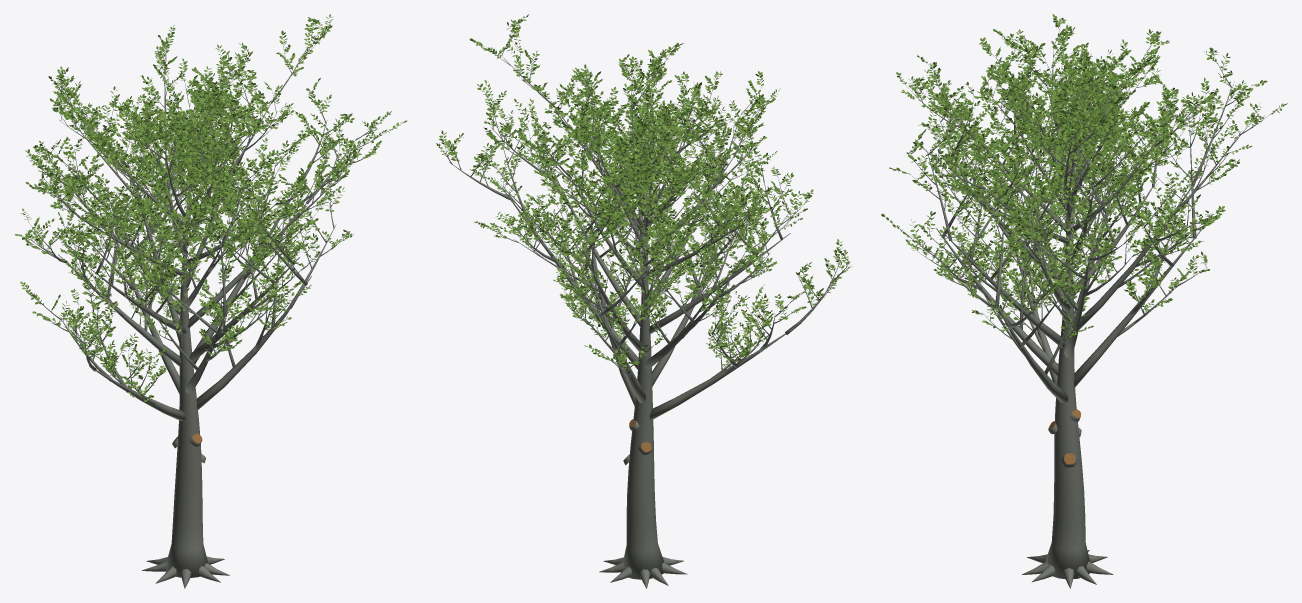
The model's file is Beech_Mature_01_LowPruned_Recent_LOD0.fbx.
3 views of the same model, side by side, from view 1: azimuth 30°, elevation 25°; view 2: azimuth 150°, elevation 25°; view 3: azimuth 270°, elevation 25° (orthographic). The views are drawn at different scales.
Parts seen in each view (by area): view 1: Beech_Mature_01_LowPruned_Recent_LOD0; view 2: Beech_Mature_01_LowPruned_Recent_LOD0; view 3: Beech_Mature_01_LowPruned_Recent_LOD0.
Boxes of the visible parts, bbox=[...] form: Beech_Mature_01_LowPruned_Recent_LOD0: bbox=[14, 14, 407, 588]; Beech_Mature_01_LowPruned_Recent_LOD0: bbox=[436, 14, 851, 588]; Beech_Mature_01_LowPruned_Recent_LOD0: bbox=[881, 14, 1287, 588].
Bounding box in the file's own units: 1794 × 2506 × 1648.
Materials: 6 (2 with a texture image).
